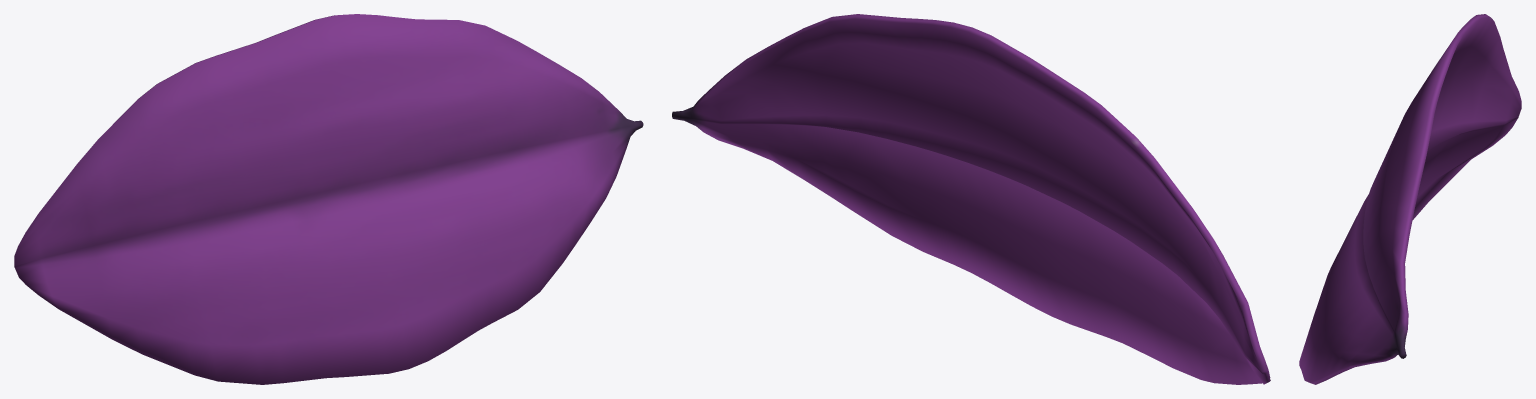
Rendered from FolhaDaFlorestaSombria.fbx.
3 renders of one model, left to right at view 1: azimuth 30°, elevation 25°; view 2: azimuth 150°, elevation 25°; view 3: azimuth 270°, elevation 25°, orthographic. The views are drawn at different scales.
Visible parts, largest first — view 1: Folha da Floresta; view 2: Folha da Floresta; view 3: Folha da Floresta.
Boxes of the visible parts, left/top/right/bottom form: Folha da Floresta: left=14, top=14, right=643, bottom=384; Folha da Floresta: left=672, top=14, right=1270, bottom=384; Folha da Floresta: left=1299, top=14, right=1521, bottom=384.
Bounding box in the file's own units: 235 × 119 × 77.54.
